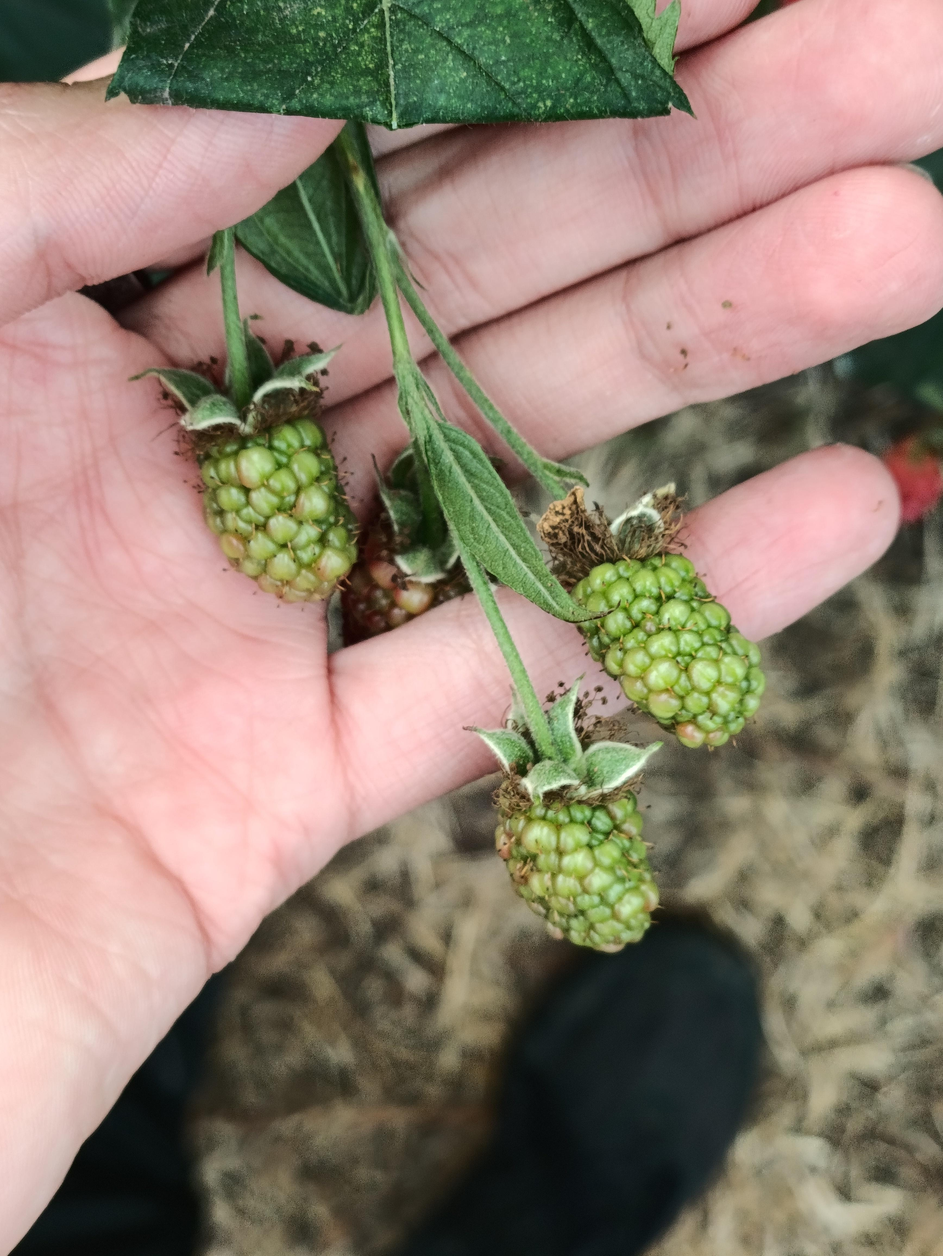verde: (144, 323, 357, 602), (573, 553, 764, 748), (496, 790, 658, 950)
